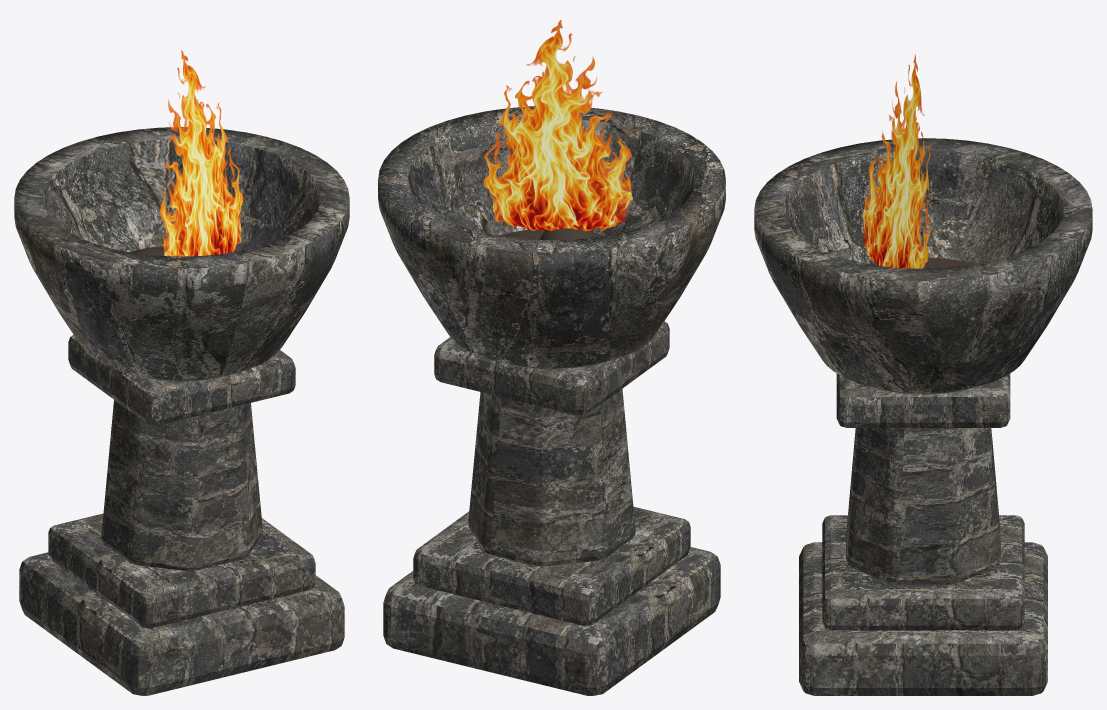
The model's file is ritual-brazier-v02.glb.
The picture shows the model from 3 angles, left to right: view 1: azimuth 30°, elevation 25°; view 2: azimuth 150°, elevation 25°; view 3: azimuth 270°, elevation 25°; orthographic projection. The views are drawn at different scales.
Parts seen in each view (by area): view 1: ritual-brazier-v02; view 2: ritual-brazier-v02; view 3: ritual-brazier-v02.
Part boxes in pixels (left/top/right/bottom): ritual-brazier-v02: left=14, top=50, right=349, bottom=695; ritual-brazier-v02: left=378, top=19, right=725, bottom=695; ritual-brazier-v02: left=754, top=54, right=1092, bottom=695.
Bounding box in the file's own units: 1.52 × 2.96 × 1.52.
Materials: 3 (2 with a texture image).
